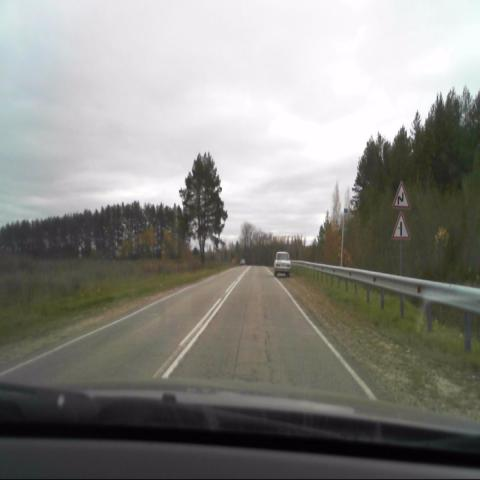1_12: (393, 182, 411, 209)
